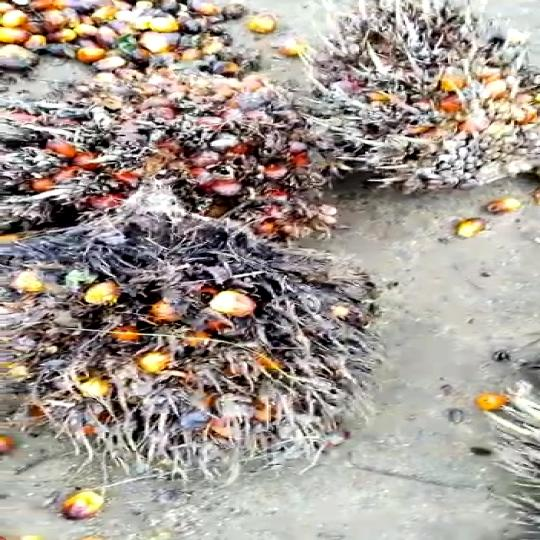terlalu masak: (0, 194, 374, 479), (0, 77, 320, 226), (309, 0, 540, 188)
